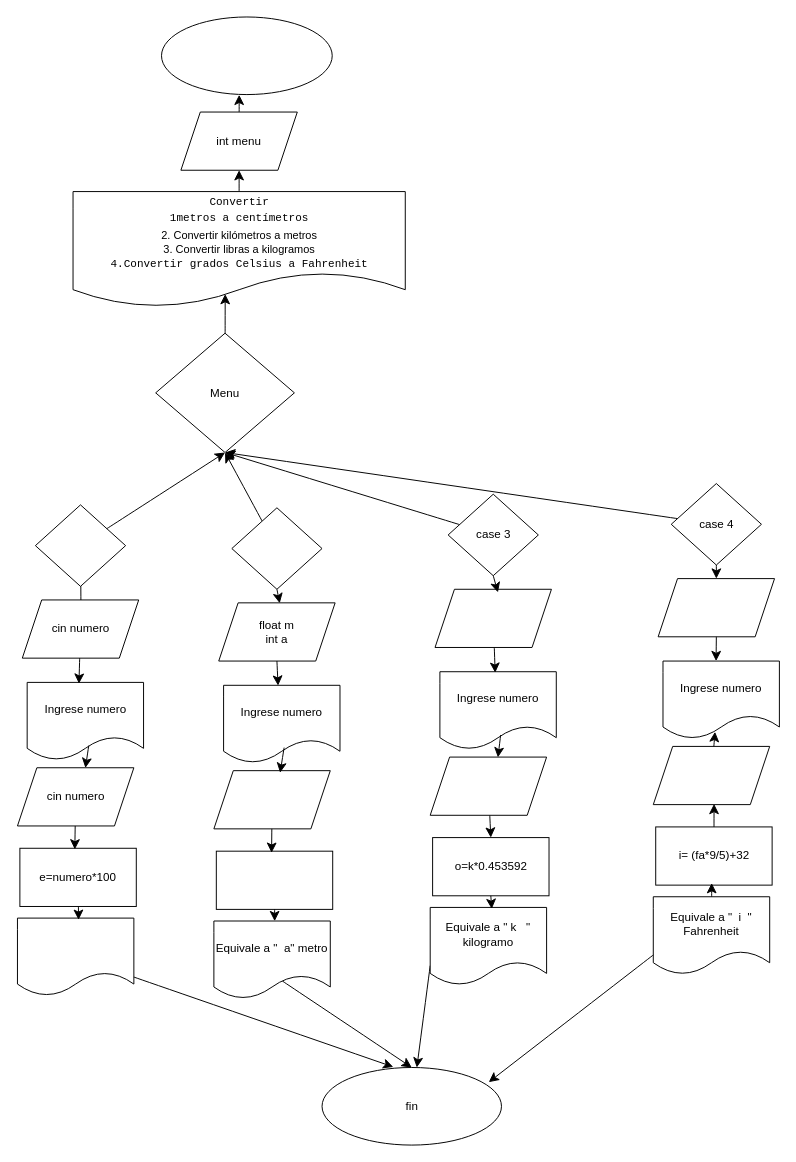
This 796x1162 diagram has some shape labels left out. Here are the shapes that lost their labels. From the top down, the box of each, then its label:
(161, 16, 332, 95): Inicio
(34, 504, 126, 586): case 1
(231, 507, 322, 589): case 2
(434, 588, 551, 647): float k int o
(657, 578, 775, 637): float far int i
(429, 756, 547, 815): cin k
(652, 745, 770, 805): cin fa
(213, 770, 330, 829): cin m
(215, 850, 333, 909): a=m*1000
(16, 917, 134, 996): Equivale a " " Centimetro
